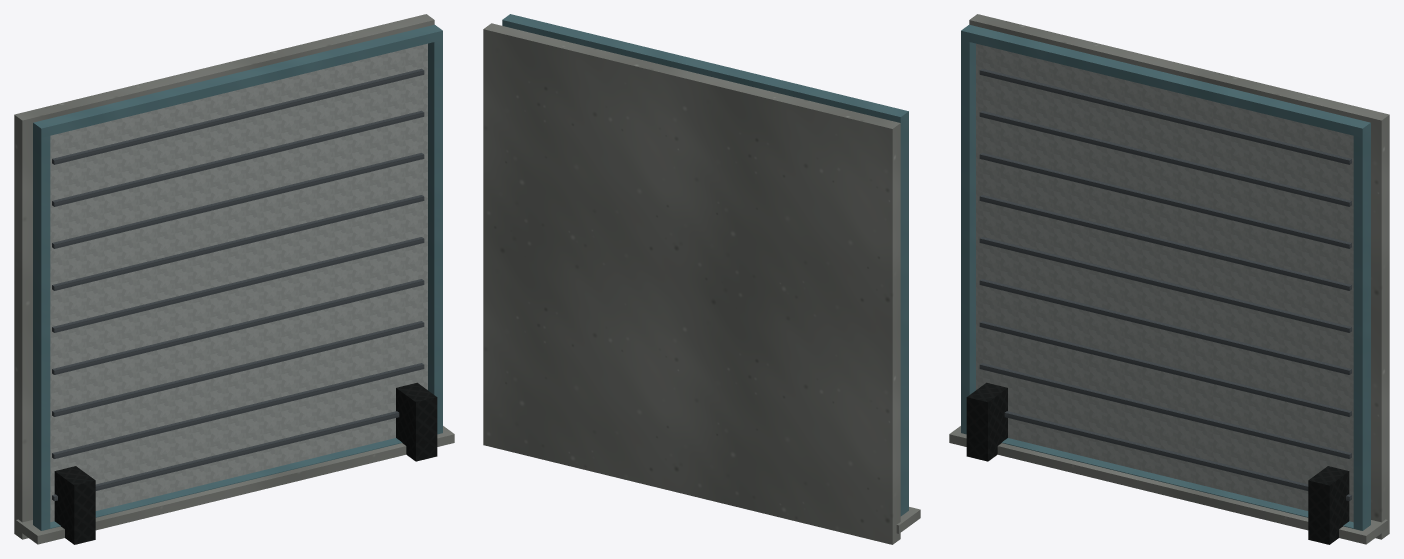
The model's file is door-loading-rollup.lod1.gltf.
The picture shows the model from 3 angles, left to right: view 1: azimuth 30°, elevation 25°; view 2: azimuth 150°, elevation 25°; view 3: azimuth 330°, elevation 25°; orthographic projection.
Visible parts, largest first — view 1: door-loading-rollup; view 2: door-loading-rollup; view 3: door-loading-rollup.
Part boxes in pixels (x1,y1,x2,y2): door-loading-rollup: (14,14,454,544); door-loading-rollup: (483,14,920,544); door-loading-rollup: (949,14,1389,544).
Bounding box in the file's own units: 3.53 × 3.4 × 0.52.
Materials: 5 (5 with a texture image).
